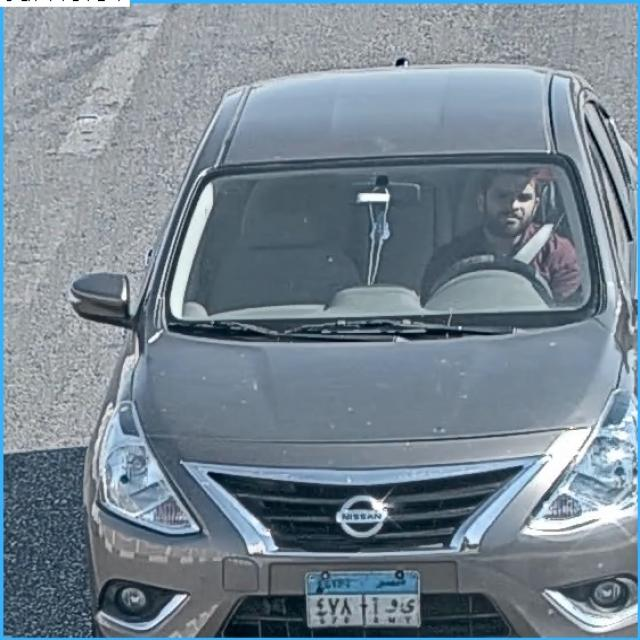windshield: (155, 167, 600, 323)
